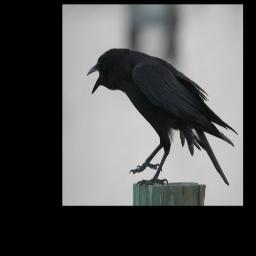Crow: (87, 47, 238, 188)
